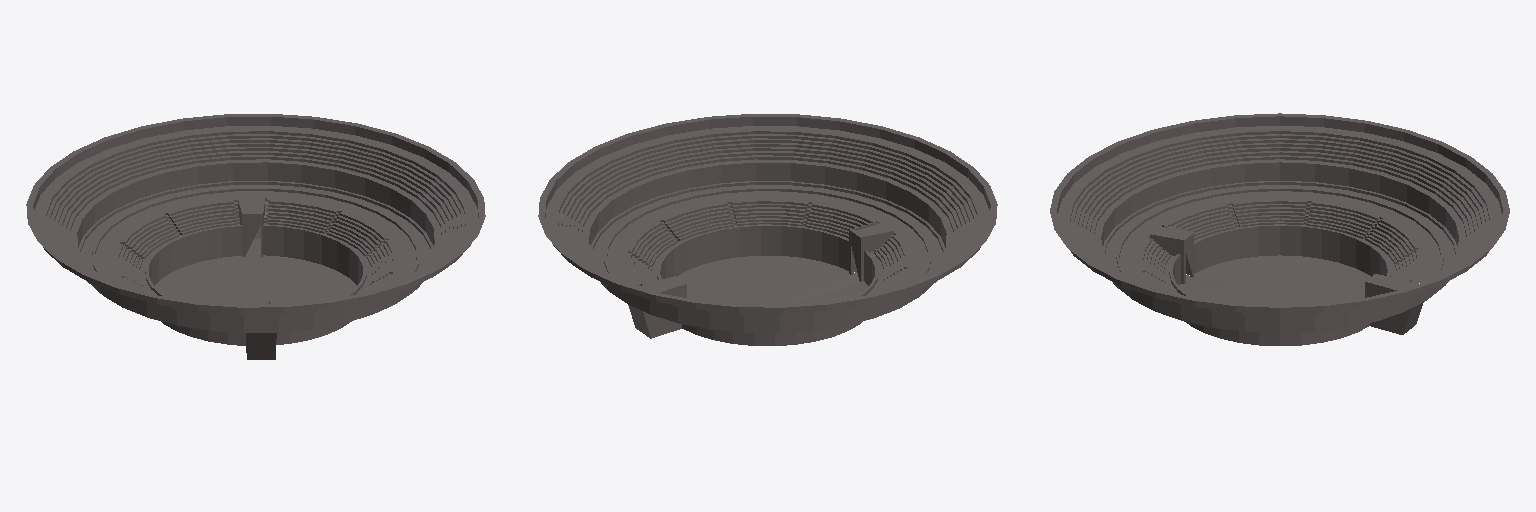
The model's file is arena.obj.
3 views of the same model, side by side, from view 1: azimuth 30°, elevation 25°; view 2: azimuth 150°, elevation 25°; view 3: azimuth 270°, elevation 25° (orthographic).
Parts seen in each view (by area): view 1: Cylinder; view 2: Cylinder; view 3: Cylinder.
Boxes of the visible parts, x1=… form: Cylinder: x1=26, y1=114, x2=485, y2=359; Cylinder: x1=538, y1=114, x2=997, y2=345; Cylinder: x1=1050, y1=113, x2=1509, y2=345.
Size of the model in its own units: 4.27 by 0.9282 by 4.27.